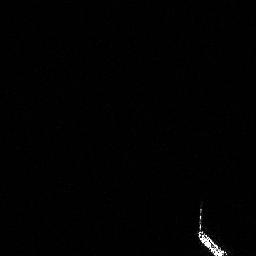ship: (193, 204, 229, 256)
